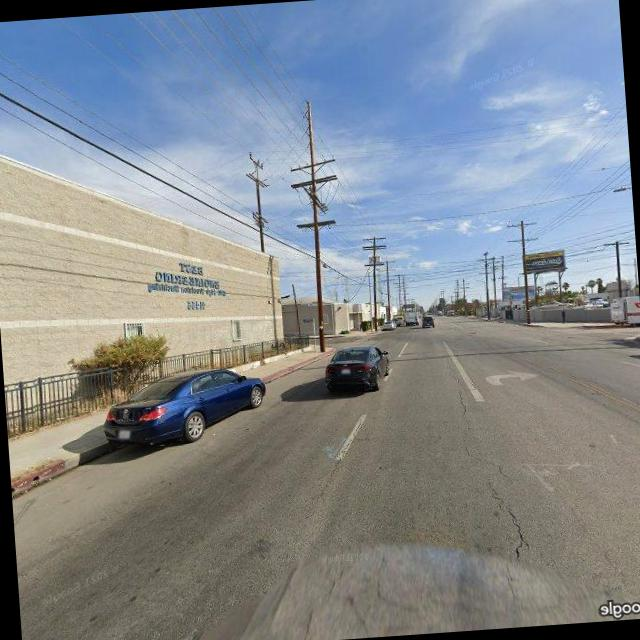pothole: (459, 379, 534, 560)
